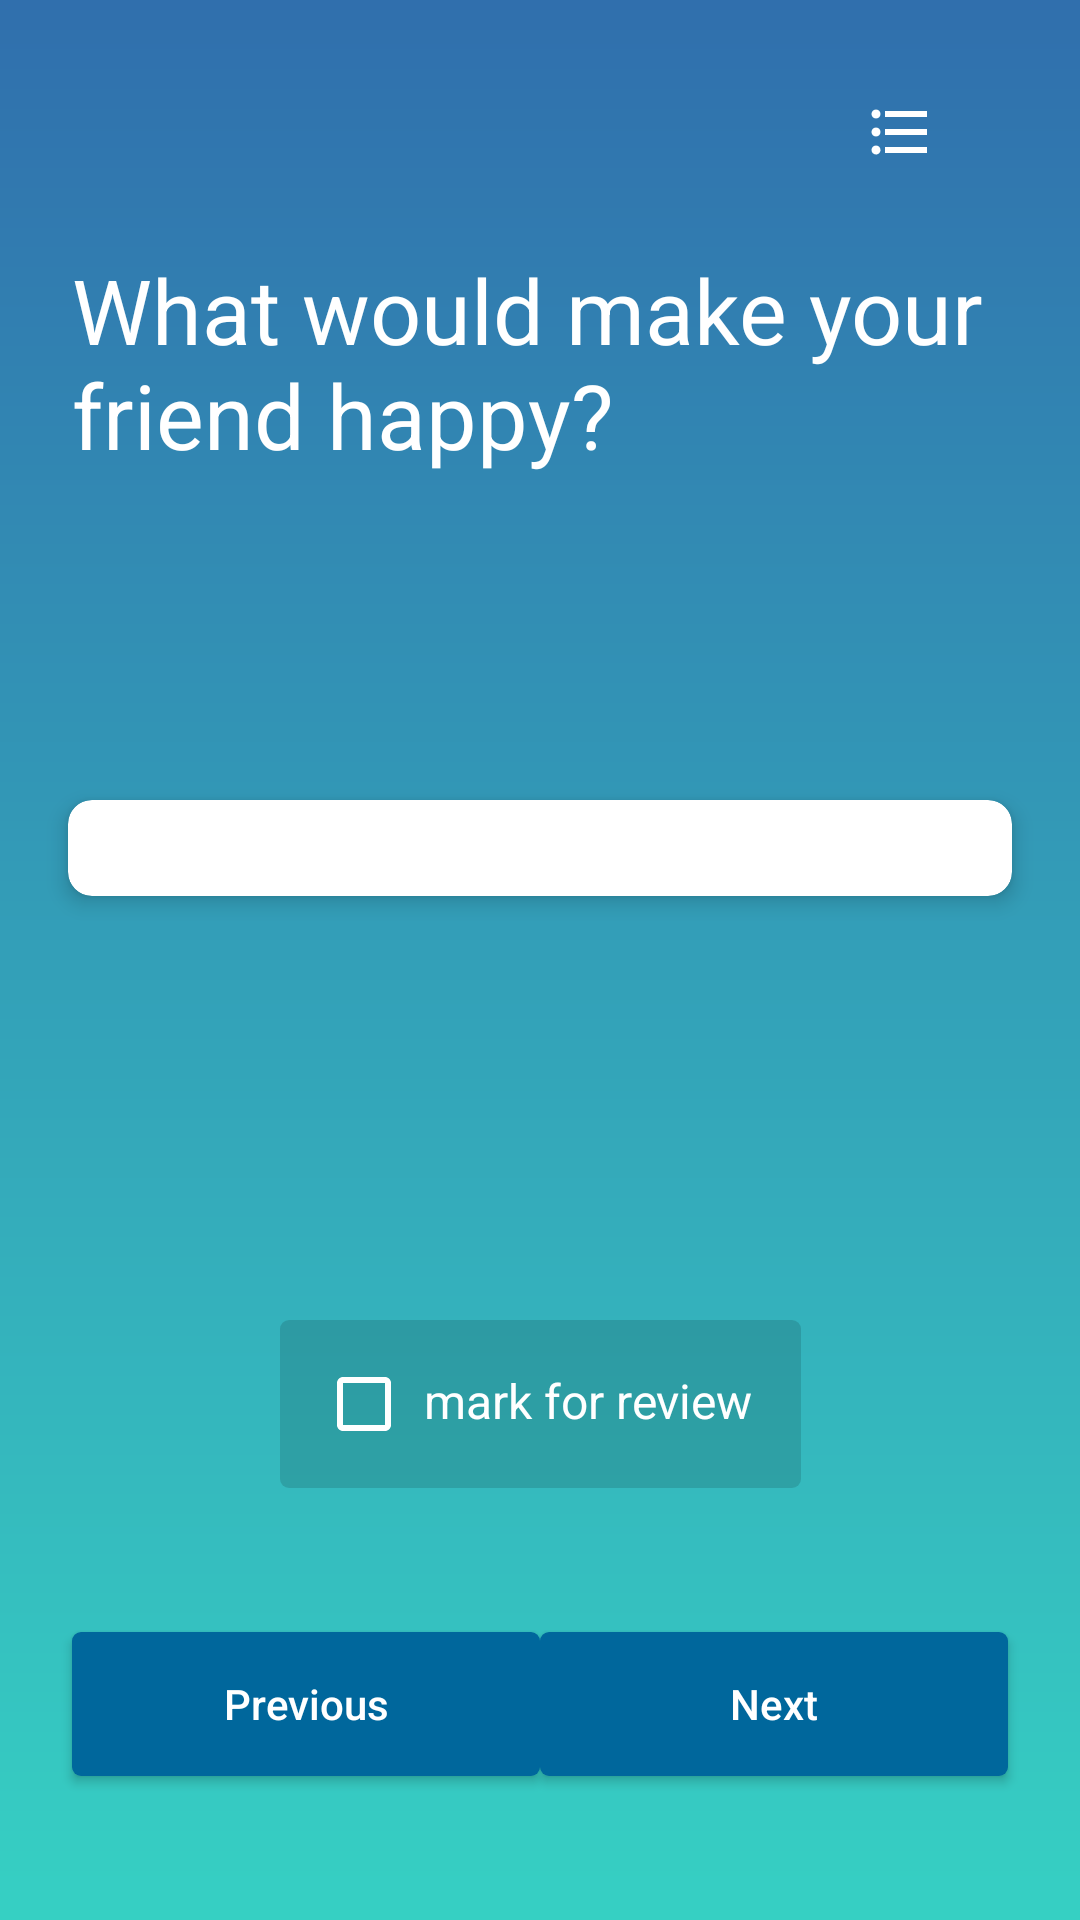

Icon click points for this 1080px x 1920px phone screenshot, format (x=x, y=y):
Review List: (x=899, y=132)
